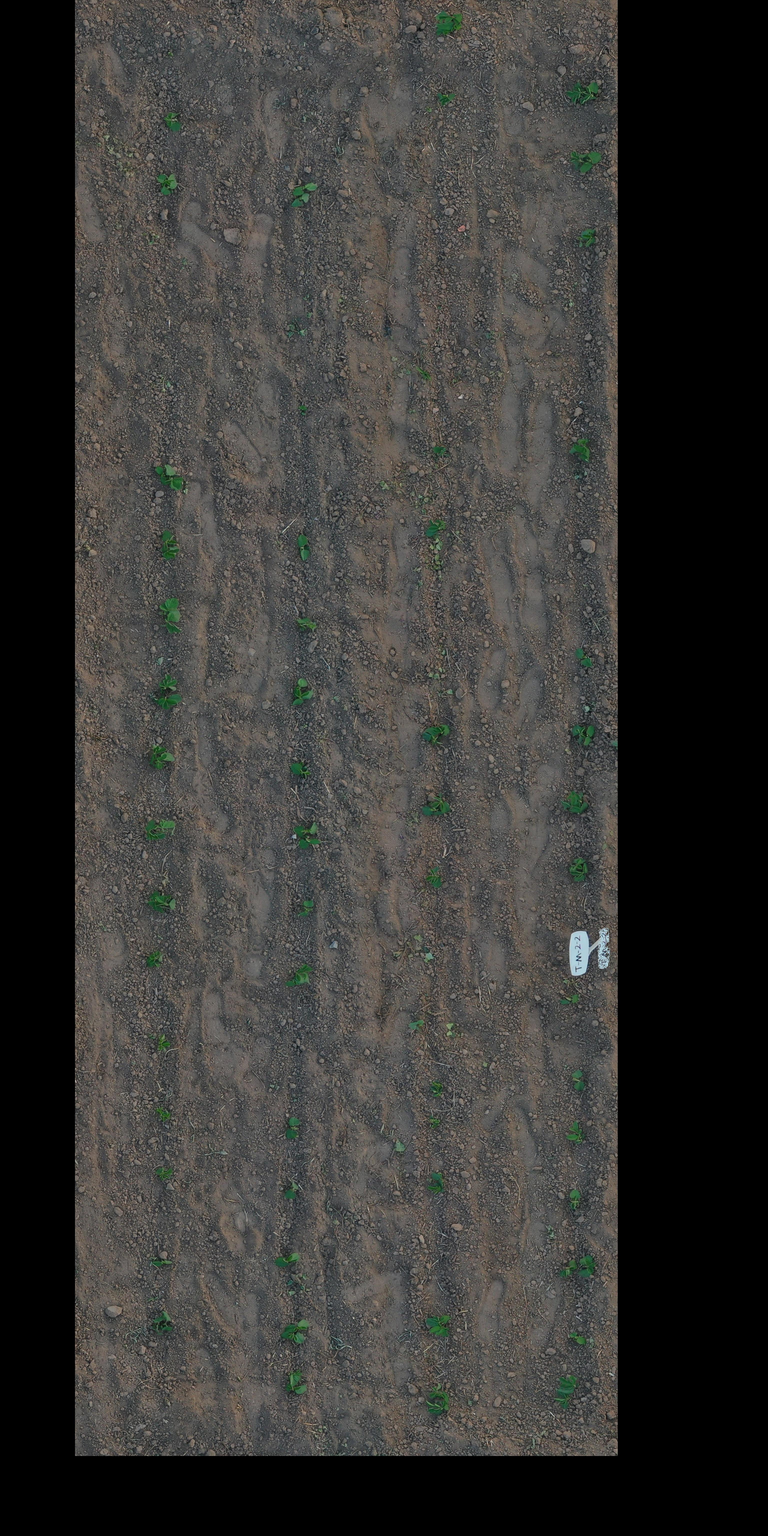s: (435, 9, 463, 31), (164, 464, 184, 491), (566, 81, 590, 103), (427, 792, 451, 814), (579, 151, 602, 173), (152, 694, 183, 710), (568, 438, 590, 460), (160, 612, 182, 634), (428, 1382, 450, 1404), (567, 790, 588, 813), (555, 1375, 580, 1394), (579, 82, 599, 105), (577, 1254, 596, 1278), (424, 518, 446, 538), (144, 820, 166, 840), (290, 688, 314, 706), (147, 890, 165, 914), (148, 744, 168, 765), (274, 1252, 300, 1268), (293, 822, 318, 838), (294, 964, 314, 984), (159, 674, 178, 695), (159, 598, 181, 616), (290, 762, 312, 780), (425, 866, 443, 888), (569, 862, 588, 882), (572, 443, 590, 464), (297, 534, 311, 561), (574, 647, 592, 668), (161, 530, 178, 552), (292, 182, 318, 196), (284, 1319, 310, 1333), (559, 1259, 578, 1278), (164, 112, 182, 132), (568, 150, 586, 170), (156, 818, 176, 836), (425, 1400, 449, 1415), (554, 1390, 572, 1410), (560, 795, 581, 812), (153, 752, 175, 768), (154, 894, 176, 910), (285, 1117, 301, 1139), (568, 1120, 582, 1144), (295, 617, 317, 632), (570, 1069, 585, 1091), (280, 1331, 305, 1344), (424, 1315, 451, 1327), (580, 228, 596, 248), (293, 677, 308, 698), (424, 724, 450, 736), (291, 192, 310, 208), (436, 92, 456, 107), (422, 732, 445, 745), (572, 724, 586, 745), (297, 900, 314, 917), (160, 180, 178, 196), (298, 837, 322, 849), (284, 1180, 299, 1199), (146, 950, 166, 964), (285, 1382, 308, 1394), (162, 546, 180, 561), (568, 857, 586, 872), (157, 173, 176, 187), (428, 1326, 450, 1338), (421, 805, 444, 816), (583, 725, 595, 746), (155, 1166, 173, 1180), (161, 1311, 173, 1332), (288, 1369, 302, 1387), (156, 466, 168, 486), (152, 1316, 164, 1336), (569, 1332, 587, 1345), (558, 994, 579, 1005), (570, 1189, 581, 1210), (431, 1172, 444, 1188), (427, 1183, 445, 1194), (566, 1134, 584, 1144), (152, 1259, 173, 1267), (429, 1080, 443, 1091), (159, 1110, 171, 1122), (157, 1033, 170, 1044), (432, 446, 446, 456), (157, 1042, 172, 1051), (429, 1088, 443, 1097), (450, 22, 462, 32), (285, 978, 298, 987), (429, 1114, 440, 1124), (299, 404, 308, 416), (148, 959, 161, 967), (576, 236, 583, 248), (156, 1106, 164, 1114), (431, 1123, 440, 1129)
